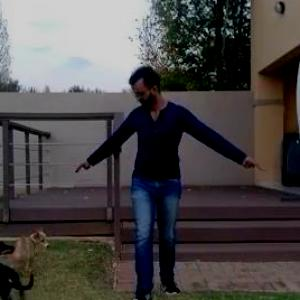land: (80, 67, 271, 298)
